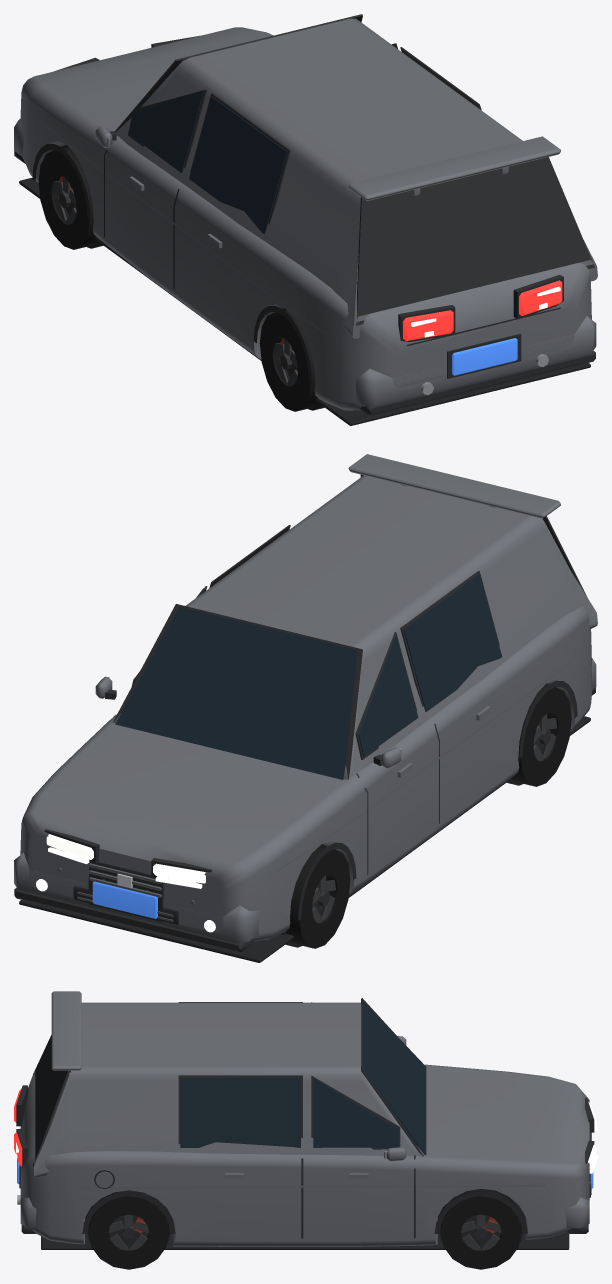
Rendered from car_hatchback_gt_gray.glb.
The picture shows the model from 3 angles, top to bottom: view 1: azimuth 30°, elevation 25°; view 2: azimuth 150°, elevation 25°; view 3: azimuth 270°, elevation 25°; orthographic projection. The views are drawn at different scales.
Parts seen in each view (by area): view 1: Body, Trim, Glass, Wheel_FL, Wheel_RL, Lights, Plate_R; view 2: Body, Glass, Trim, Wheel_FL, Wheel_RL, Lights, Plate_F; view 3: Body, Glass, Trim, Wheel_FR, Wheel_RR, Lights.
Part boxes in pixels (left/top/right/bottom): Body: left=14, top=18, right=597, bottom=410; Trim: left=14, top=14, right=595, bottom=425; Glass: left=107, top=18, right=358, bottom=234; Wheel_FL: left=38, top=146, right=97, bottom=249; Wheel_RL: left=259, top=309, right=319, bottom=411; Lights: left=403, top=280, right=562, bottom=340; Plate_R: left=452, top=338, right=517, bottom=375; Body: left=14, top=454, right=597, bottom=943; Glass: left=108, top=519, right=543, bottom=779; Trim: left=14, top=474, right=595, bottom=962; Wheel_FL: left=285, top=845, right=350, bottom=948; Wheel_RL: left=512, top=684, right=571, bottom=786; Lights: left=36, top=834, right=215, bottom=932; Plate_F: left=92, top=881, right=157, bottom=918; Body: left=20, top=991, right=589, bottom=1246; Glass: left=65, top=1001, right=426, bottom=1158; Trim: left=16, top=998, right=594, bottom=1249; Wheel_FR: left=440, top=1189, right=521, bottom=1269; Wheel_RR: left=88, top=1190, right=169, bottom=1269; Lights: left=14, top=1089, right=597, bottom=1210.
Bounding box in the file's own units: 2.04 × 1.57 × 4.31.
